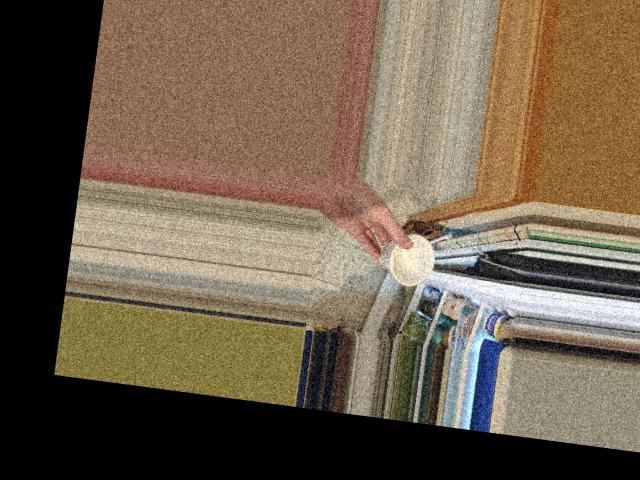cotage: (373, 225, 437, 279)
